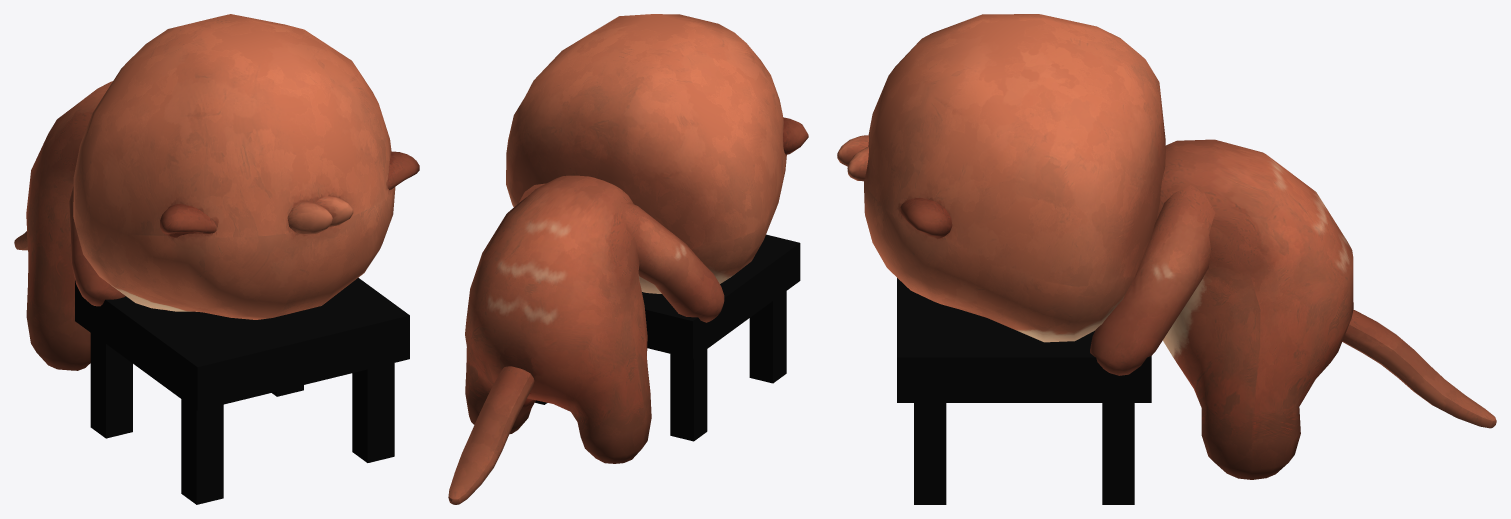
File: ottis_Depress.fbx
3 views of the same model, side by side, from view 1: azimuth 30°, elevation 25°; view 2: azimuth 150°, elevation 25°; view 3: azimuth 270°, elevation 25° (orthographic). The views are drawn at different scales.
Parts seen in each view (by area): view 1: PM3D_Cylinder3D1; view 2: PM3D_Cylinder3D1; view 3: PM3D_Cylinder3D1.
Boxes of the visible parts, x1,y1,x2,y2 form: PM3D_Cylinder3D1: (14,14,419,504); PM3D_Cylinder3D1: (448,14,808,504); PM3D_Cylinder3D1: (837,14,1496,504).
Size of the model in its own units: 1.89 by 2.61 by 3.69.
